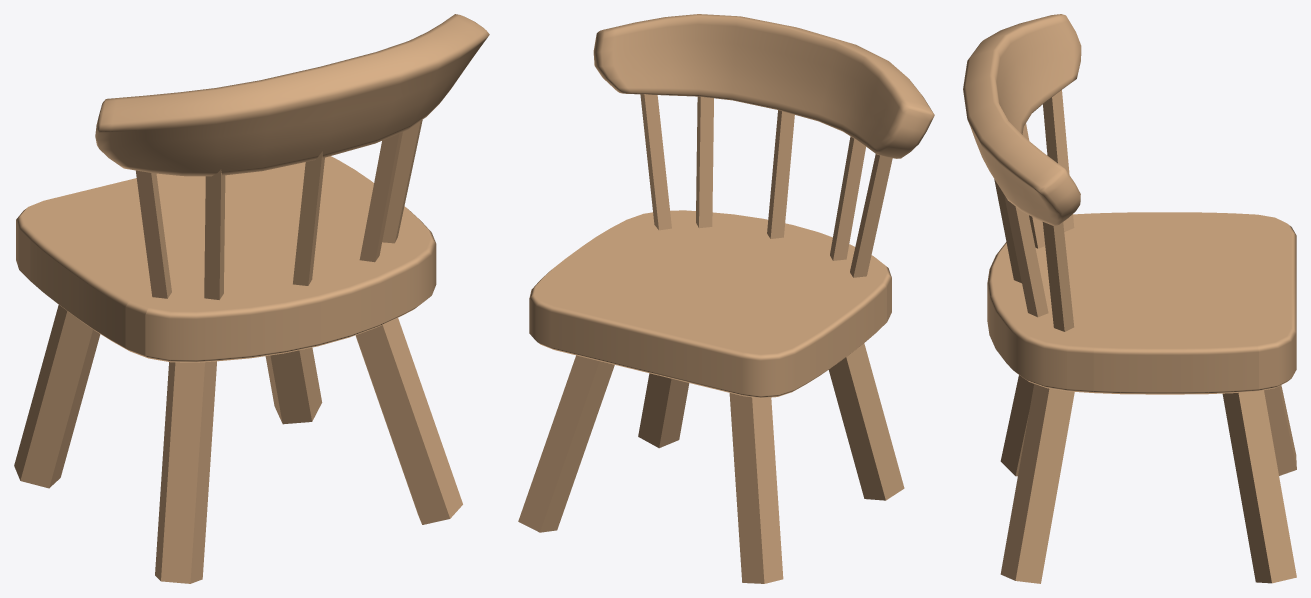
Rendered from dinning-chair-transformed.glb.
The picture shows the model from 3 angles, left to right: view 1: azimuth 30°, elevation 25°; view 2: azimuth 150°, elevation 25°; view 3: azimuth 270°, elevation 25°; orthographic projection. The views are drawn at different scales.
Visible parts, largest first — view 1: Shape 2.003, Merged Geometry.021, Cube 95.003; view 2: Shape 2.003, Merged Geometry.021, Cube 95.003; view 3: Shape 2.003, Merged Geometry.021, Cube 95.003.
Part boxes in pixels (x1,y1,x2,y2): Shape 2.003: [16, 156, 436, 362]; Merged Geometry.021: [14, 120, 462, 583]; Cube 95.003: [95, 14, 489, 176]; Shape 2.003: [529, 210, 891, 398]; Merged Geometry.021: [518, 94, 904, 583]; Cube 95.003: [593, 14, 934, 158]; Shape 2.003: [987, 212, 1296, 394]; Merged Geometry.021: [994, 90, 1296, 583]; Cube 95.003: [963, 14, 1081, 226].
Size of the model in its own units: 0.7997 by 0.9778 by 0.6571.
